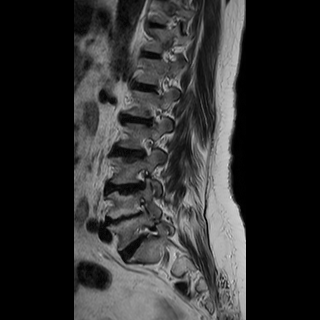LFS0: (135, 132, 159, 163)
LFS1: (129, 166, 153, 193)
